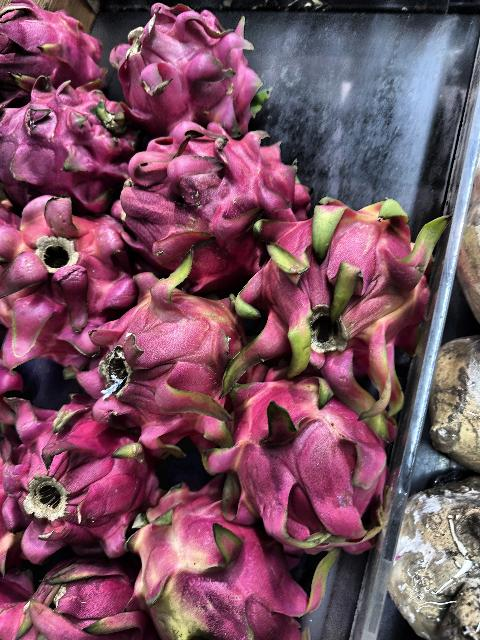buah-naga-belum-matang: (244, 176, 434, 394)
buah-naga-matang: (206, 356, 402, 544), (131, 486, 337, 640), (110, 124, 310, 274), (0, 387, 158, 555), (1, 195, 132, 373), (109, 2, 273, 138), (92, 274, 240, 422), (0, 90, 126, 208), (0, 0, 112, 90)
